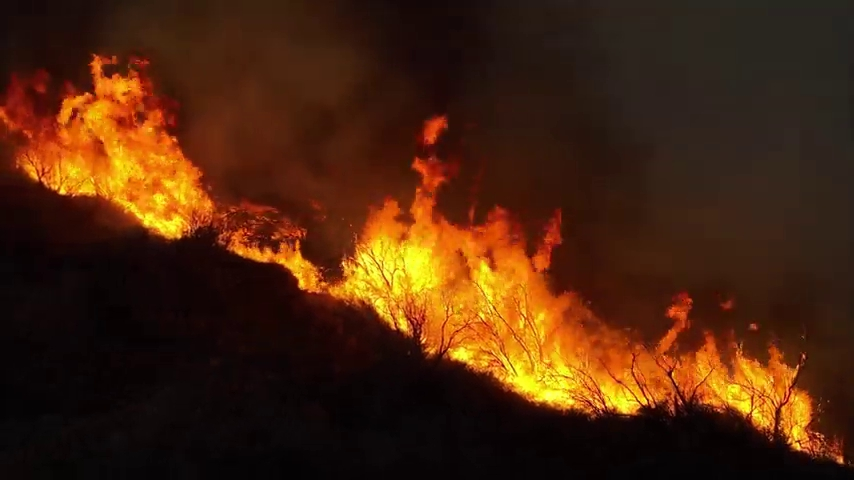forest_fire: (0, 55, 841, 459), (422, 116, 446, 147)
